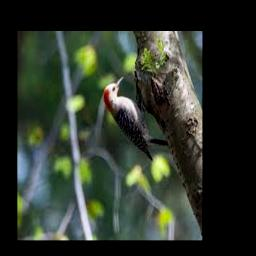Woodpecker: (104, 74, 169, 160)
